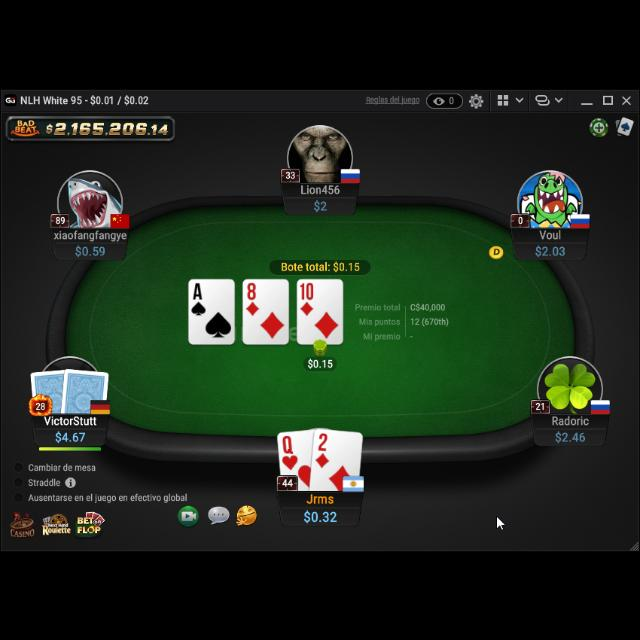2d: (314, 428, 332, 468)
8d: (245, 280, 261, 314)
As: (190, 278, 208, 316)
Qh: (280, 430, 300, 468)
Td: (298, 278, 316, 316)
bet_text: (306, 354, 334, 368)
card_back: (60, 362, 110, 412), (30, 366, 70, 412)
dealer: (487, 240, 505, 258)
pot_text: (282, 259, 362, 271)
stack_text: (303, 504, 339, 522), (553, 427, 587, 441), (54, 427, 86, 441), (74, 241, 106, 255), (534, 241, 566, 255), (312, 196, 330, 210)
